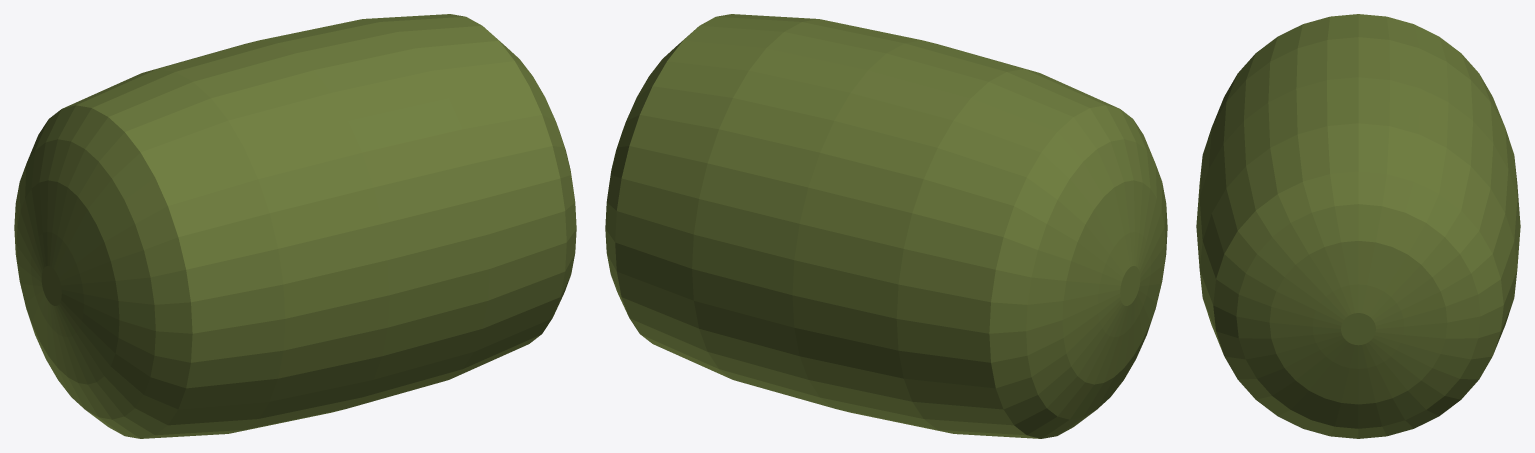
File: Rolled Sleeping bag.fbx
The picture shows the model from 3 angles, left to right: view 1: azimuth 30°, elevation 25°; view 2: azimuth 150°, elevation 25°; view 3: azimuth 270°, elevation 25°; orthographic projection. The views are drawn at different scales.
Parts seen in each view (by area): view 1: Sleeping bag; view 2: Sleeping bag; view 3: Sleeping bag.
Boxes of the visible parts, x1,y1,x2,y2 form: Sleeping bag: (14, 14, 576, 438); Sleeping bag: (605, 14, 1167, 438); Sleeping bag: (1196, 14, 1520, 438).
Bounding box in the file's own units: 159 × 108 × 106.
